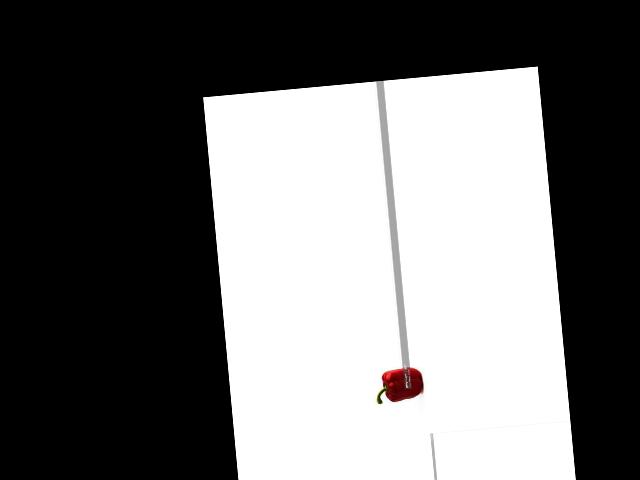bell_pepper: (371, 364, 423, 408)
